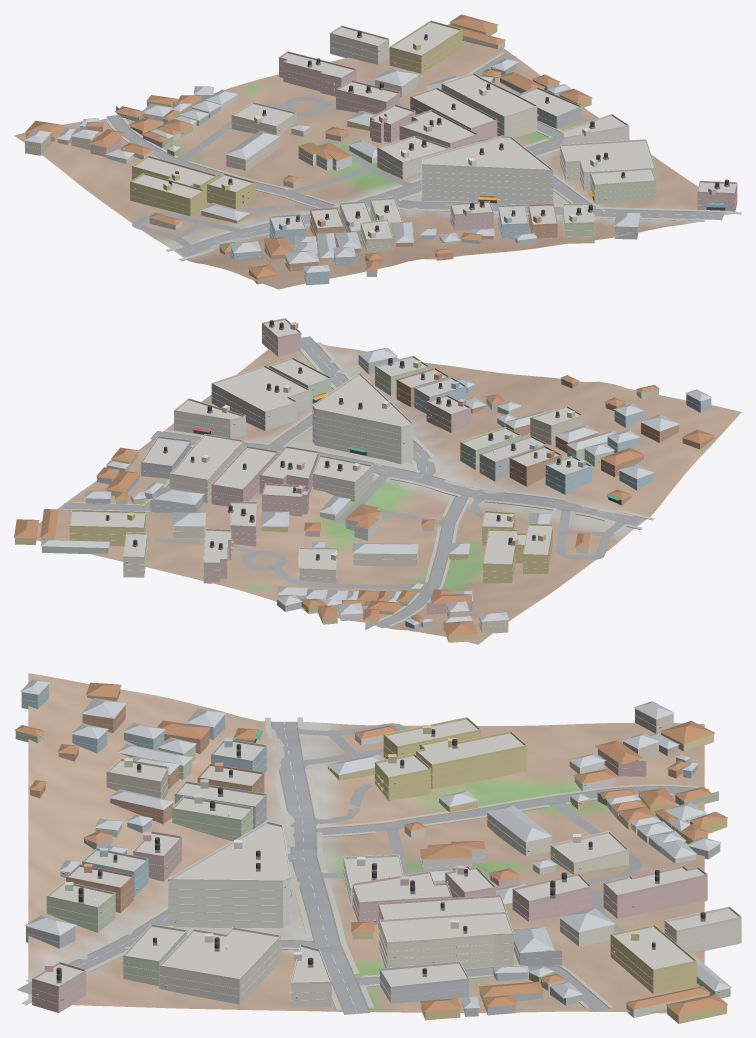
3 renders of one model, top to bottom at view 1: azimuth 30°, elevation 25°; view 2: azimuth 150°, elevation 25°; view 3: azimuth 270°, elevation 25°, orthographic. The views are drawn at different scales.
Parts seen in each view (by area): view 1: Buildings-col, Terrain-col, Details, Roads-col, Sidewalks-col; view 2: Buildings-col, Terrain-col, Details, Roads-col, Sidewalks-col; view 3: Buildings-col, Terrain-col, Details, Roads-col, Sidewalks-col.
Part boxes in pixels (<box>): Buildings-col: <box>24,14,737,285</box>; Terrain-col: <box>14,41,735,289</box>; Details: <box>24,20,737,280</box>; Roads-col: <box>106,53,724,257</box>; Sidewalks-col: <box>106,52,741,261</box>; Buildings-col: <box>14,320,715,642</box>; Terrain-col: <box>36,344,741,644</box>; Details: <box>43,318,711,627</box>; Roads-col: <box>63,336,645,628</box>; Sidewalks-col: <box>63,342,654,626</box>; Buildings-col: <box>14,679,741,1023</box>; Terrain-col: <box>28,673,704,1013</box>; Details: <box>21,690,741,1006</box>; Roads-col: <box>17,722,708,1014</box>; Sidewalks-col: <box>21,717,698,1010</box>.
Bounding box in the file's own units: 271 × 33.32 × 276.
